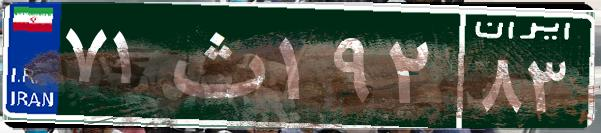1: (273, 28, 330, 110), (110, 28, 158, 105)
2: (385, 28, 445, 110)
3: (525, 38, 570, 115)
7: (57, 26, 110, 107)
8: (475, 38, 525, 113)
9: (330, 28, 385, 110)
ث: (158, 15, 273, 115)
